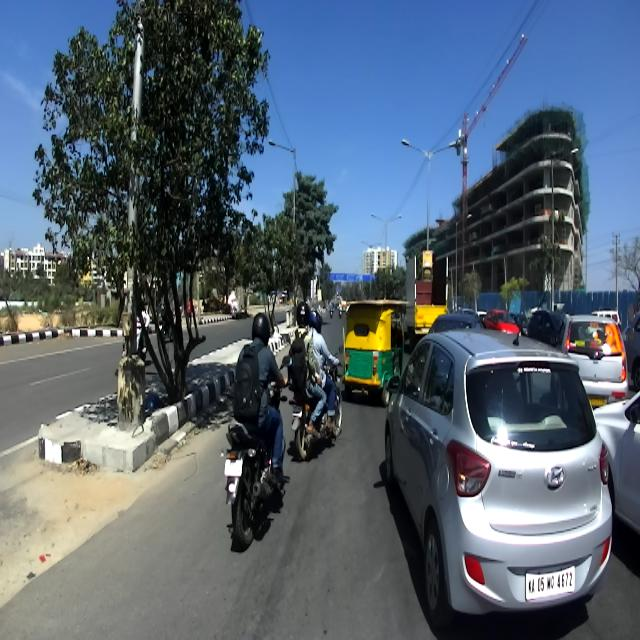car ahead at: (378, 317, 615, 627)
motorcycle ahead at: (222, 400, 289, 546), (288, 372, 346, 469)
tree ahead at: (37, 0, 275, 406)
